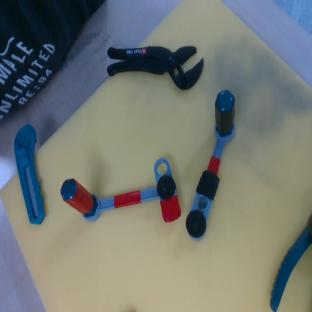non_pass: (177, 87, 245, 241)
pass: (58, 156, 182, 240)
